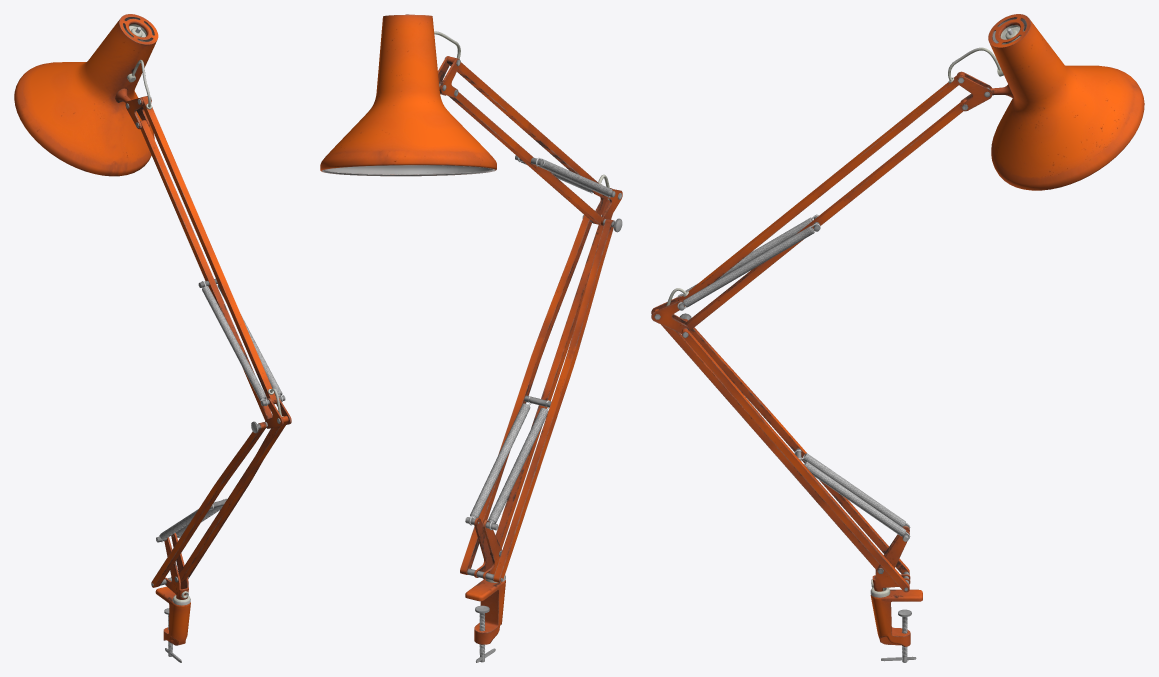
The model's file is desk_lamp_arm_01_1k.gltf.
The picture shows the model from 3 angles, left to right: view 1: azimuth 30°, elevation 25°; view 2: azimuth 150°, elevation 25°; view 3: azimuth 270°, elevation 25°; orthographic projection. The views are drawn at different scales.
Parts seen in each view (by area): view 1: desk_lamp_arm_01; view 2: desk_lamp_arm_01; view 3: desk_lamp_arm_01.
Part boxes in pixels (<box>): desk_lamp_arm_01: <box>14,14,291,662</box>; desk_lamp_arm_01: <box>320,14,622,662</box>; desk_lamp_arm_01: <box>651,14,1144,662</box>.
Size of the model in its own units: 0.2018 by 0.8926 by 0.6139.
2 materials, 2 textured.
